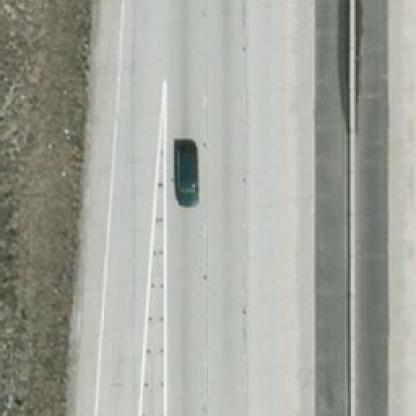car: (168, 136, 202, 206)
